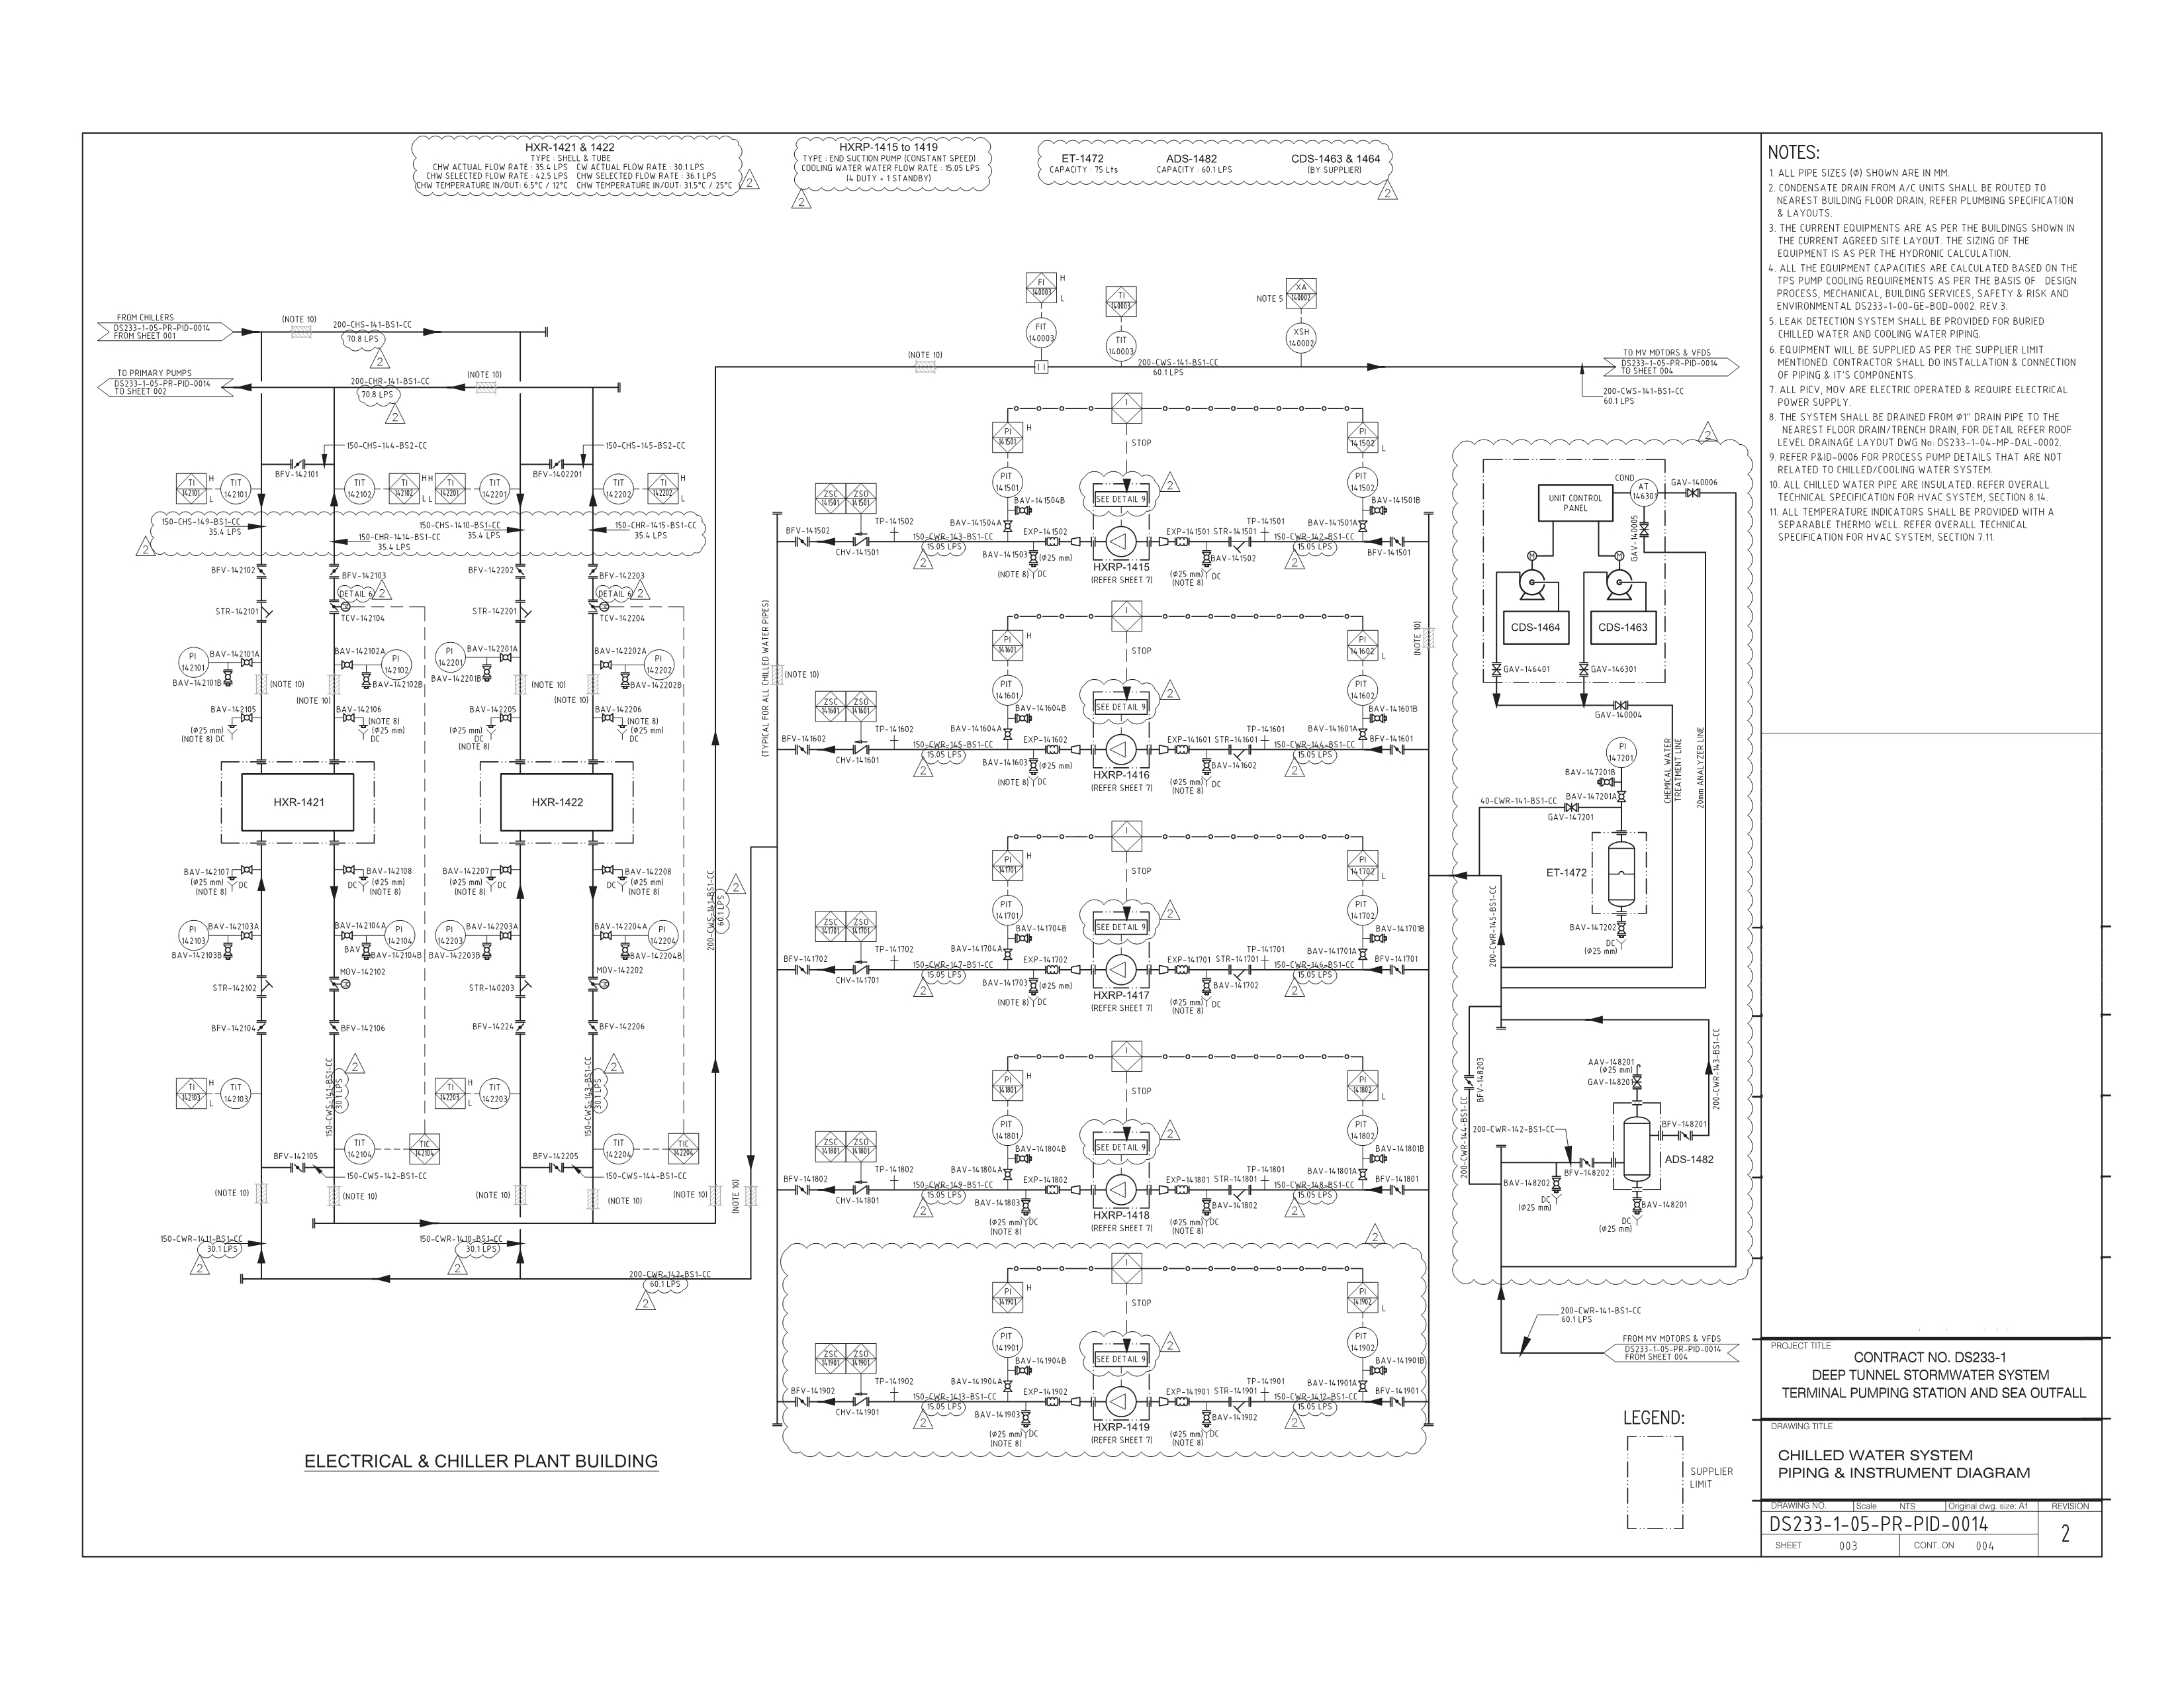Inline Instrument: (477, 468, 511, 507), (601, 468, 635, 507), (642, 644, 675, 683), (434, 638, 468, 677), (175, 640, 209, 679), (175, 915, 209, 954), (385, 913, 418, 952), (431, 915, 464, 954), (645, 917, 679, 956), (1023, 314, 1057, 353), (1104, 326, 1138, 365), (1345, 463, 1379, 502), (1283, 316, 1317, 355), (991, 459, 1025, 498), (1345, 668, 1379, 707), (991, 888, 1025, 927), (1345, 1112, 1379, 1151), (991, 1321, 1025, 1360), (1627, 473, 1661, 512), (220, 470, 253, 507), (342, 470, 376, 507), (379, 647, 413, 684), (601, 1129, 635, 1167), (479, 1076, 512, 1114), (342, 1129, 376, 1167), (218, 1075, 252, 1112), (991, 668, 1025, 706), (1347, 888, 1381, 926), (991, 1110, 1025, 1147), (1345, 1323, 1379, 1360), (1604, 734, 1638, 771)
